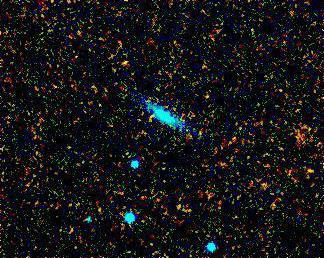star: (108, 46, 138, 76)
